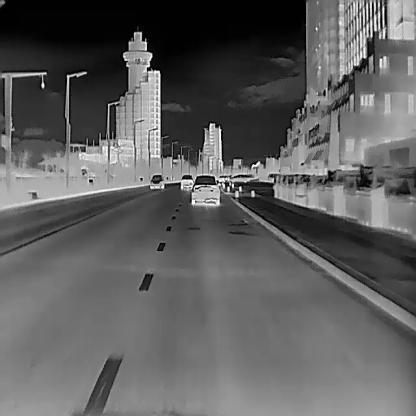car: (189, 173, 220, 208), (148, 173, 164, 188), (179, 173, 194, 189), (229, 173, 252, 182)
